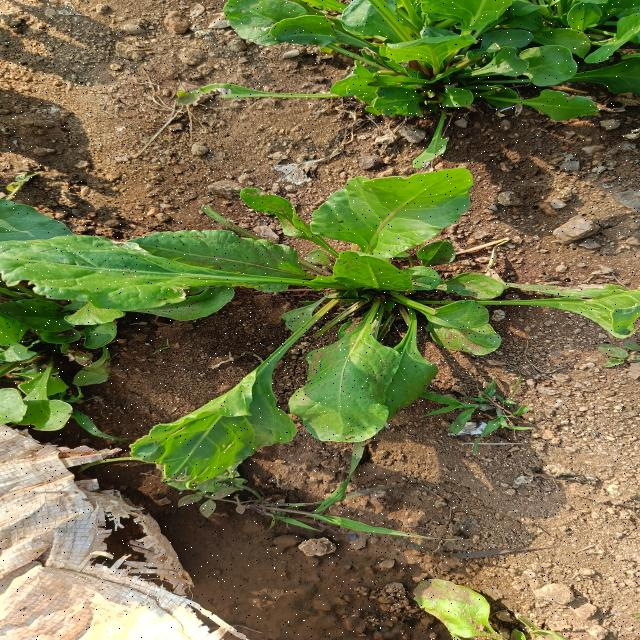leaves: (121, 302, 327, 494), (1, 222, 350, 314), (289, 158, 503, 268), (269, 316, 394, 451), (122, 218, 326, 296), (348, 314, 455, 423), (376, 284, 515, 358), (476, 284, 640, 345), (202, 181, 323, 250), (307, 253, 430, 303), (397, 227, 475, 276)
